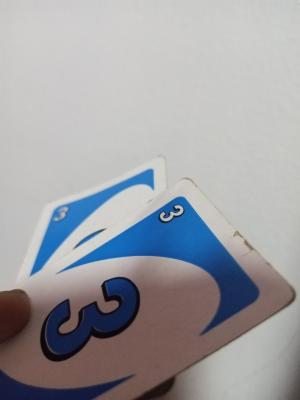blue: (74, 244, 252, 332)
num_3: (155, 202, 186, 228)
